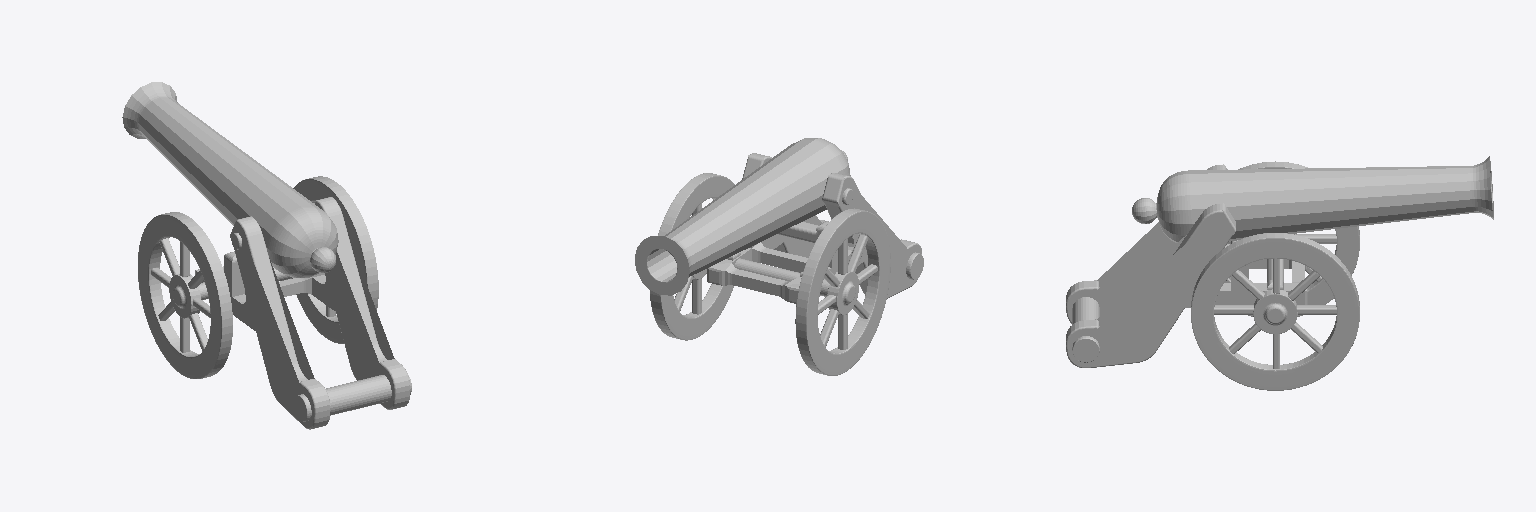
Rendered from low poly canon .obj.
3 renders of one model, left to right at view 1: azimuth 30°, elevation 25°; view 2: azimuth 150°, elevation 25°; view 3: azimuth 270°, elevation 25°, orthographic.
Parts seen in each view (by area): view 1: Canon_Cube.004; view 2: Canon_Cube.004; view 3: Canon_Cube.004.
Boxes of the visible parts, x1,y1,x2,y2 form: Canon_Cube.004: [122, 82, 411, 429]; Canon_Cube.004: [635, 138, 923, 375]; Canon_Cube.004: [1066, 156, 1493, 390].
Size of the model in its own units: 2.19 by 2.48 by 4.98.